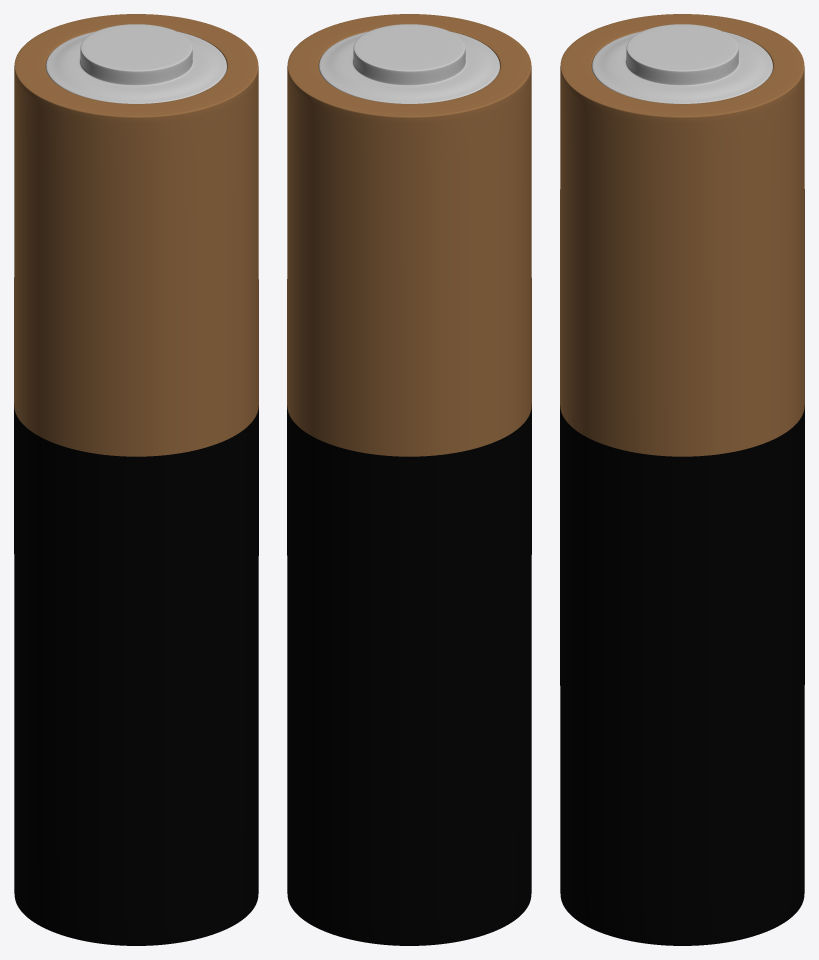
Rendered from batterySmall.fbx.
3 views of the same model, side by side, from view 1: azimuth 30°, elevation 25°; view 2: azimuth 150°, elevation 25°; view 3: azimuth 270°, elevation 25° (orthographic).
Visible parts, largest first — view 1: Cylinder, Cylinder.001; view 2: Cylinder, Cylinder.001; view 3: Cylinder, Cylinder.001.
Part boxes in pixels (x1,y1,x2,y2): Cylinder: (14, 14, 258, 945); Cylinder.001: (46, 24, 226, 103); Cylinder: (287, 14, 531, 945); Cylinder.001: (319, 24, 499, 103); Cylinder: (560, 14, 804, 945); Cylinder.001: (592, 24, 772, 103).
Bounding box in the file's own units: 199 × 759 × 199.
